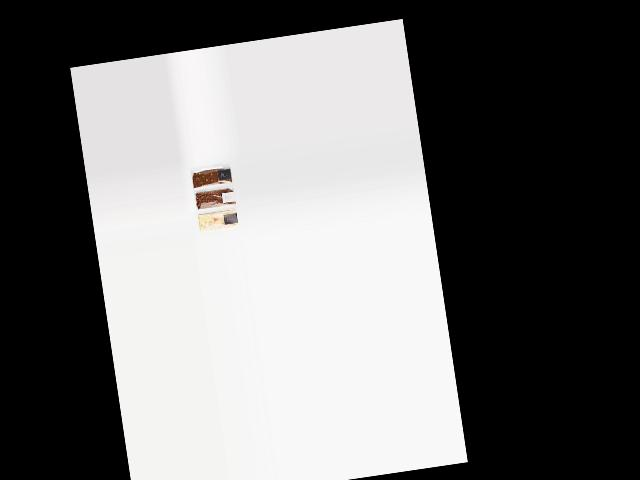chocolate: (186, 160, 232, 190)
